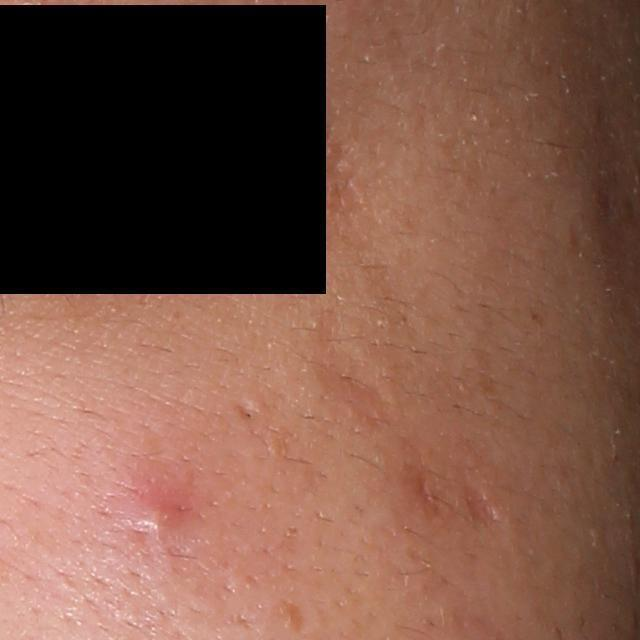atrophic_scar: (307, 309, 379, 424), (458, 479, 502, 530)
